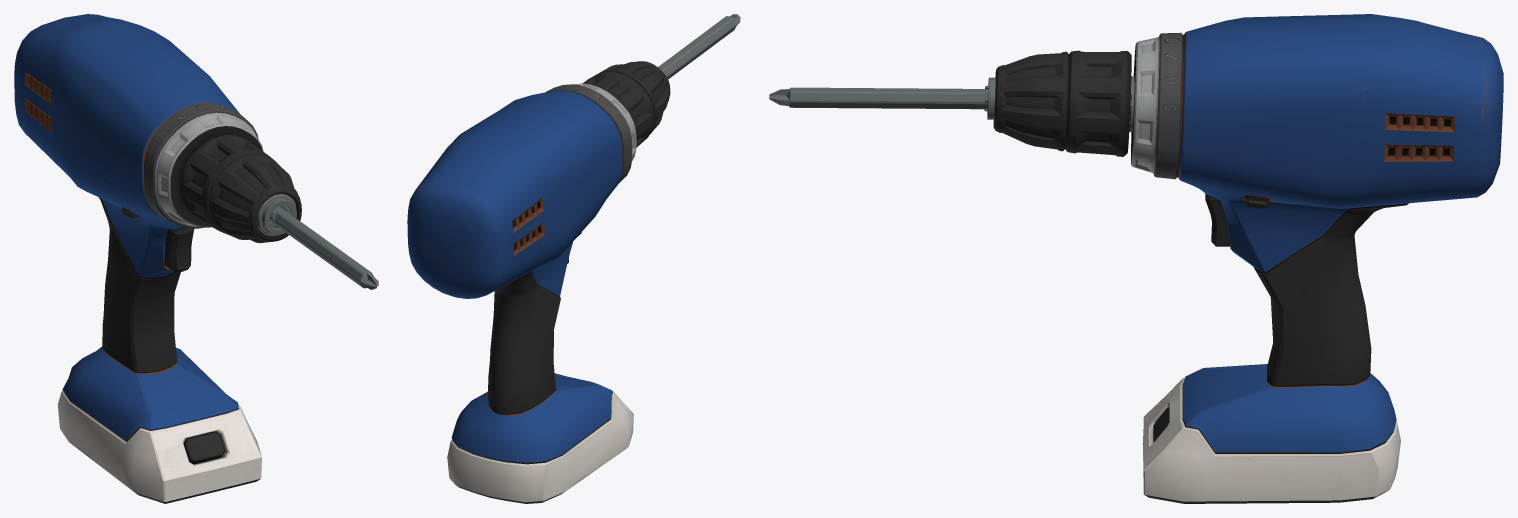
File: Screw Driver.fbx
The picture shows the model from 3 angles, left to right: view 1: azimuth 30°, elevation 25°; view 2: azimuth 150°, elevation 25°; view 3: azimuth 270°, elevation 25°; orthographic projection. The views are drawn at different scales.
Parts seen in each view (by area): view 1: Drill; view 2: Drill; view 3: Drill.
Boxes of the visible parts, x1=… form: Drill: x1=14, y1=14, x2=378, y2=503; Drill: x1=407, y1=14, x2=740, y2=503; Drill: x1=769, y1=14, x2=1503, y2=503.
Bounding box in the file's own units: 11.18 × 33.32 × 50.13.
1 material, 1 textured.
